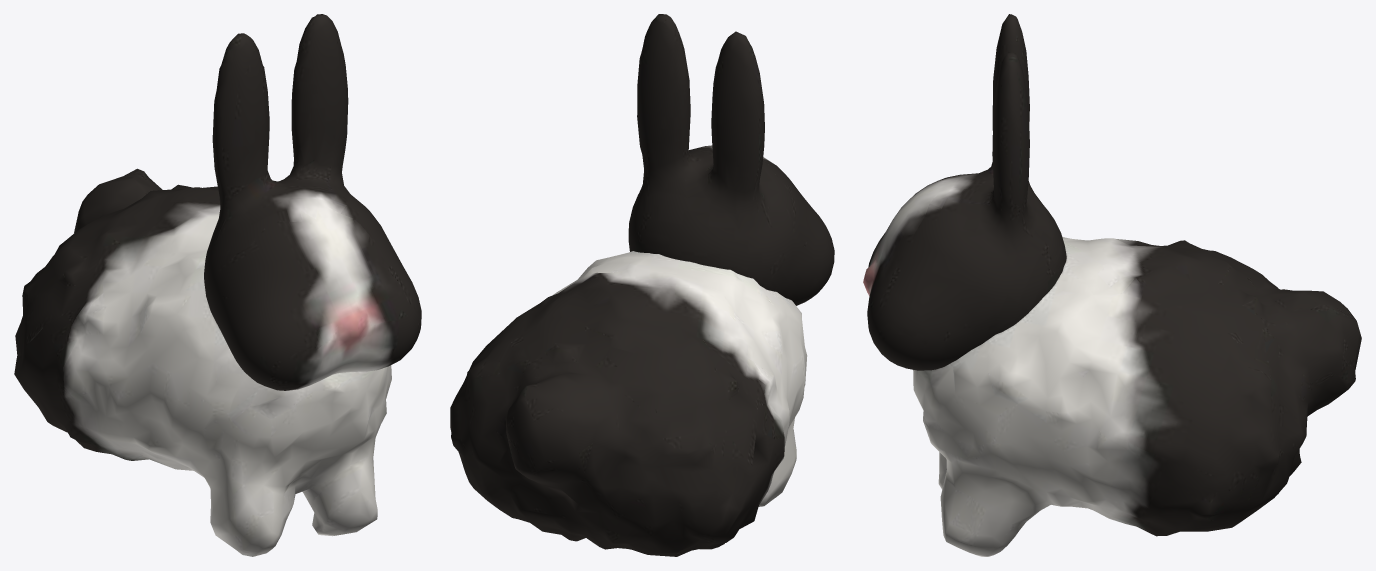
File: animal_dutch_rabbit.glb
3 renders of one model, left to right at view 1: azimuth 30°, elevation 25°; view 2: azimuth 150°, elevation 25°; view 3: azimuth 270°, elevation 25°, orthographic. The views are drawn at different scales.
Visible parts, largest first — view 1: animal_dutch_rabbit, head; view 2: animal_dutch_rabbit, head; view 3: animal_dutch_rabbit, head.
Boxes of the visible parts, left/top/right/bottom form: animal_dutch_rabbit: left=14, top=168, right=391, bottom=556; head: left=204, top=14, right=421, bottom=390; animal_dutch_rabbit: left=450, top=251, right=807, bottom=556; head: left=628, top=14, right=834, bottom=305; animal_dutch_rabbit: left=913, top=237, right=1361, bottom=556; head: left=863, top=14, right=1066, bottom=370.
Bounding box in the file's own units: 0.2088 × 0.3229 × 0.2918.
Materials: 1 (1 with a texture image).
